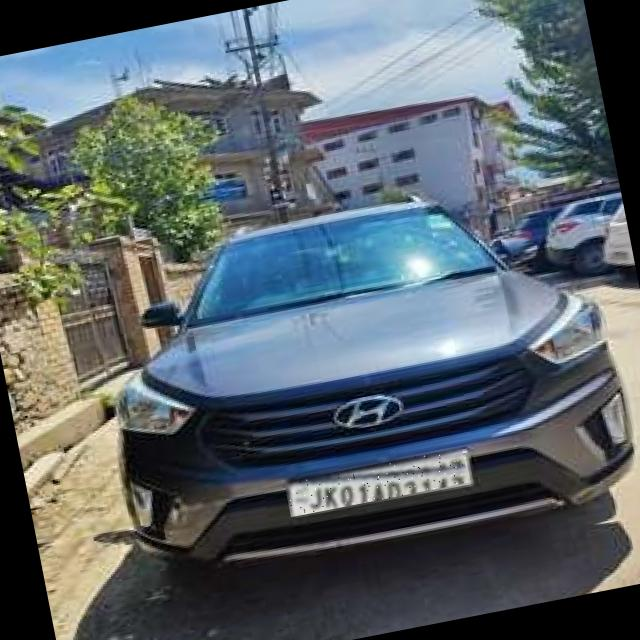Plate: (285, 448, 470, 518)
